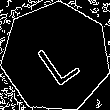L_NW: (29, 28, 83, 86)
